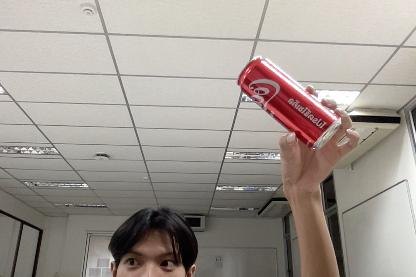Can: (236, 54, 341, 152)
